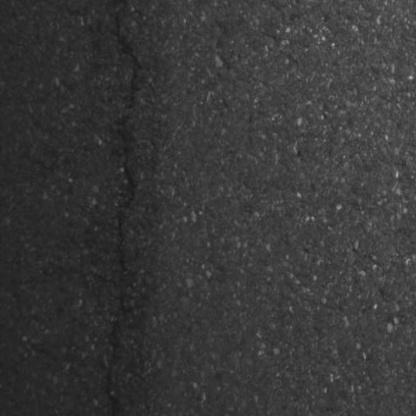Cracks: (112, 128, 141, 276), (112, 0, 144, 113), (104, 284, 129, 416)
